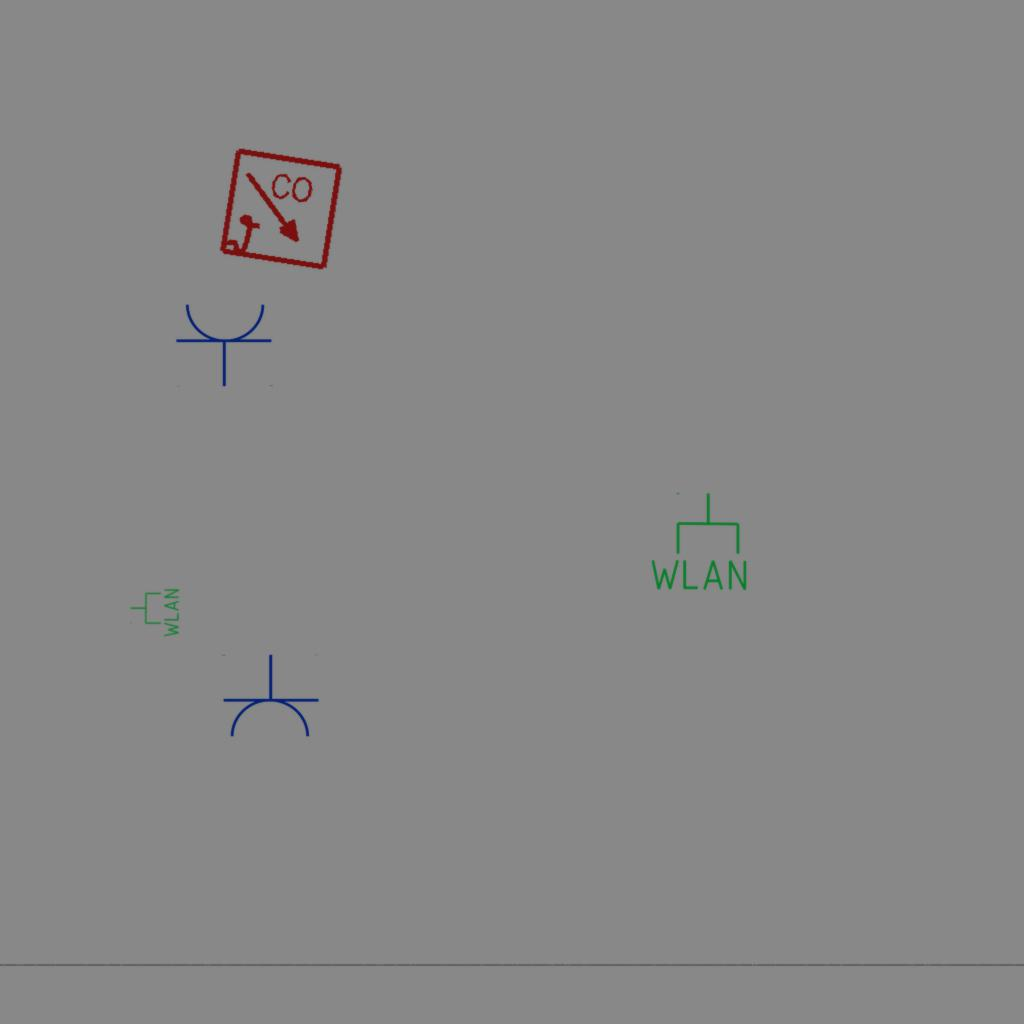ROA_Rauchmelder_optisch_mit_Signalgeber_(Sockelsirene): (216, 145, 347, 276)
Schukosteckdose_einfach: (220, 654, 320, 741), (175, 300, 275, 387)
WLAN: (646, 490, 751, 594), (129, 587, 181, 639)
